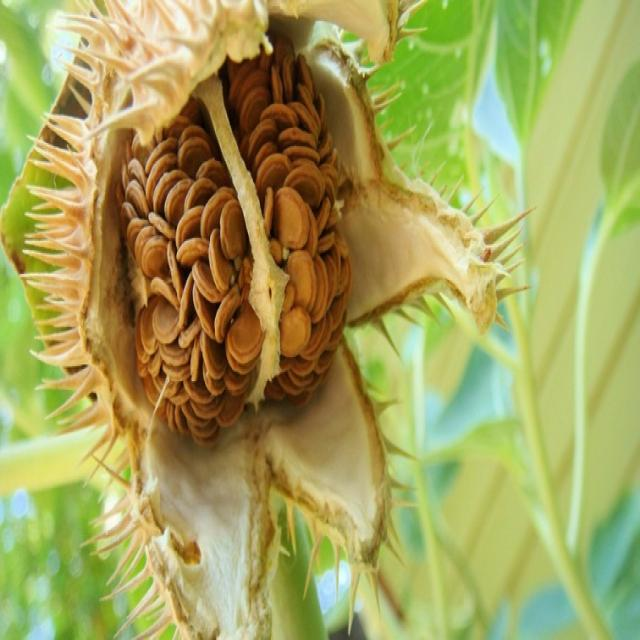Poisonous-Datura_Stramonium: (36, 3, 516, 640)
